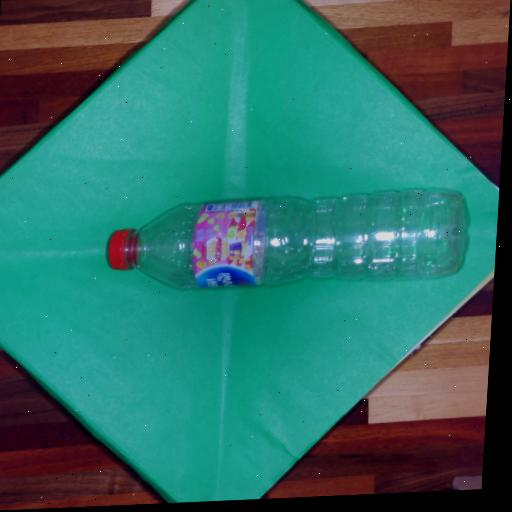bottle: (104, 186, 474, 291)
